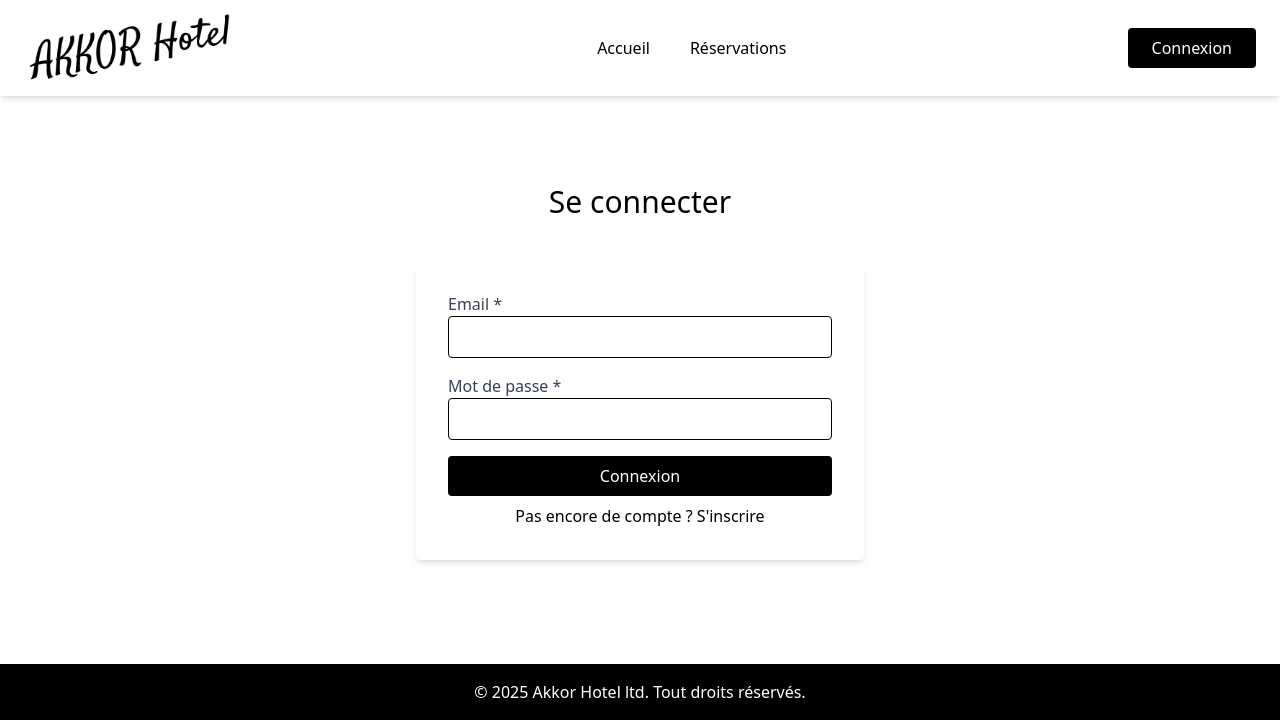
Test case: Login Page › handles unexpected errors during login
Type "test@example.com" into the field labelled "Email *" at point(640, 337), box [448,316,832,358]
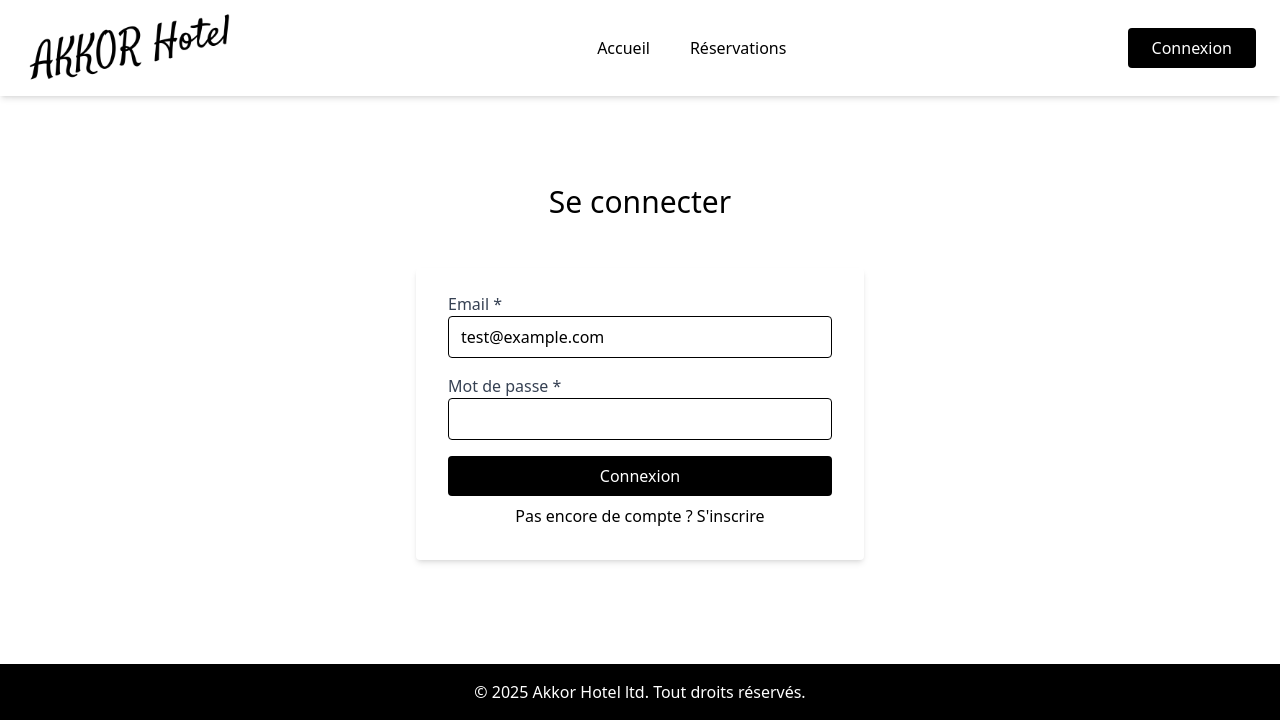
Type "password123" into the password field labelled "Mot de passe *" at point(640, 419), box [448,398,832,440]
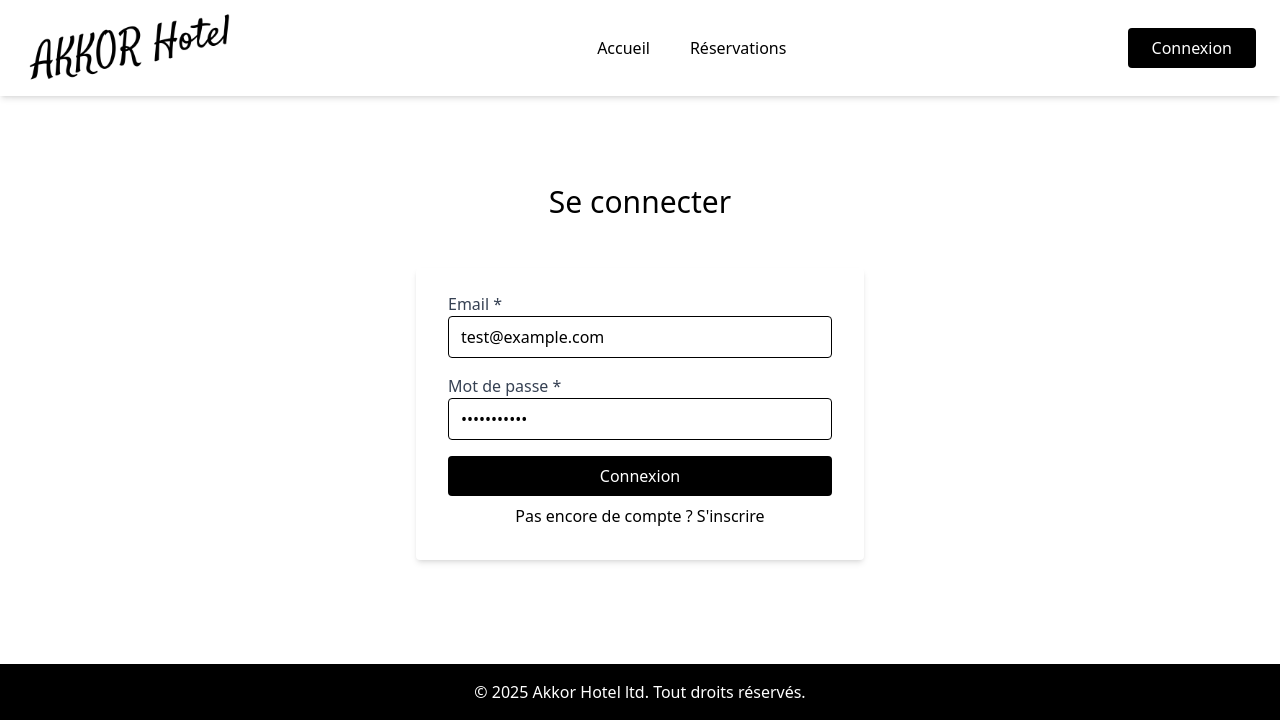
Click the button "Connexion" at point(640, 476), box [448,456,832,496]
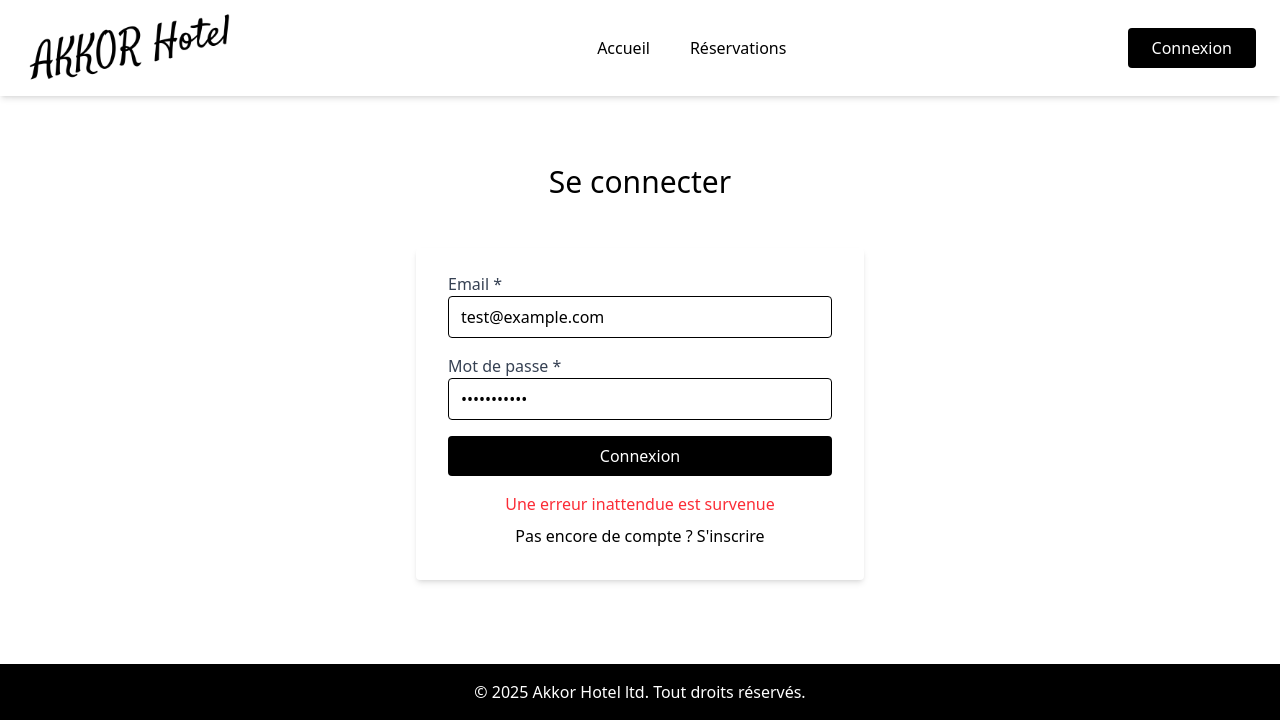
Check: the text "Une erreur inattendue est survenue" is shown, box [505,493,775,515]
